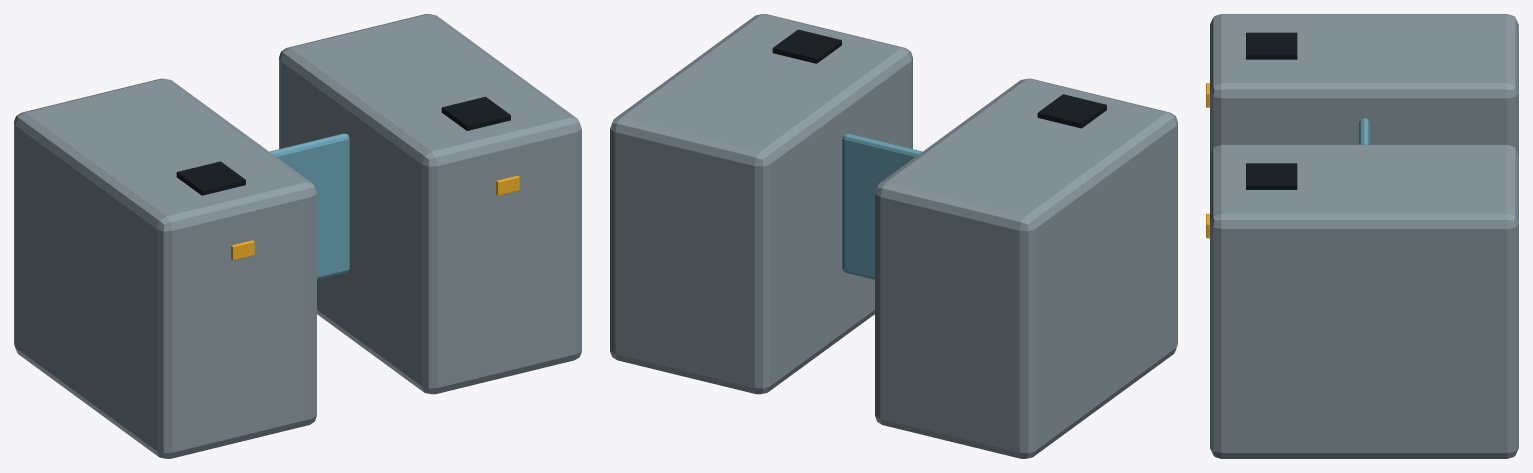
3 renders of one model, left to right at view 1: azimuth 30°, elevation 25°; view 2: azimuth 150°, elevation 25°; view 3: azimuth 270°, elevation 25°, orthographic.
Parts seen in each view (by area): view 1: CABINET.001, CABINET, FLAP, READER, READER.001; view 2: CABINET.001, CABINET, FLAP, READER, READER.001; view 3: CABINET, CABINET.001, READER, READER.001.
Boxes of the visible parts, x1,y1,x2,y2 form: CABINET.001: [14, 78, 316, 458]; CABINET: [279, 14, 581, 394]; FLAP: [269, 133, 349, 279]; READER: [176, 161, 245, 195]; READER.001: [441, 96, 510, 130]; CABINET.001: [875, 78, 1177, 458]; CABINET: [610, 14, 912, 394]; FLAP: [842, 133, 922, 279]; READER: [1037, 94, 1106, 128]; READER.001: [772, 29, 841, 63]; CABINET: [1210, 144, 1518, 458]; CABINET.001: [1210, 14, 1518, 154]; READER: [1246, 32, 1297, 59]; READER.001: [1246, 163, 1297, 189].
Bounding box in the file's own units: 1.92 × 1.07 × 1.21.
